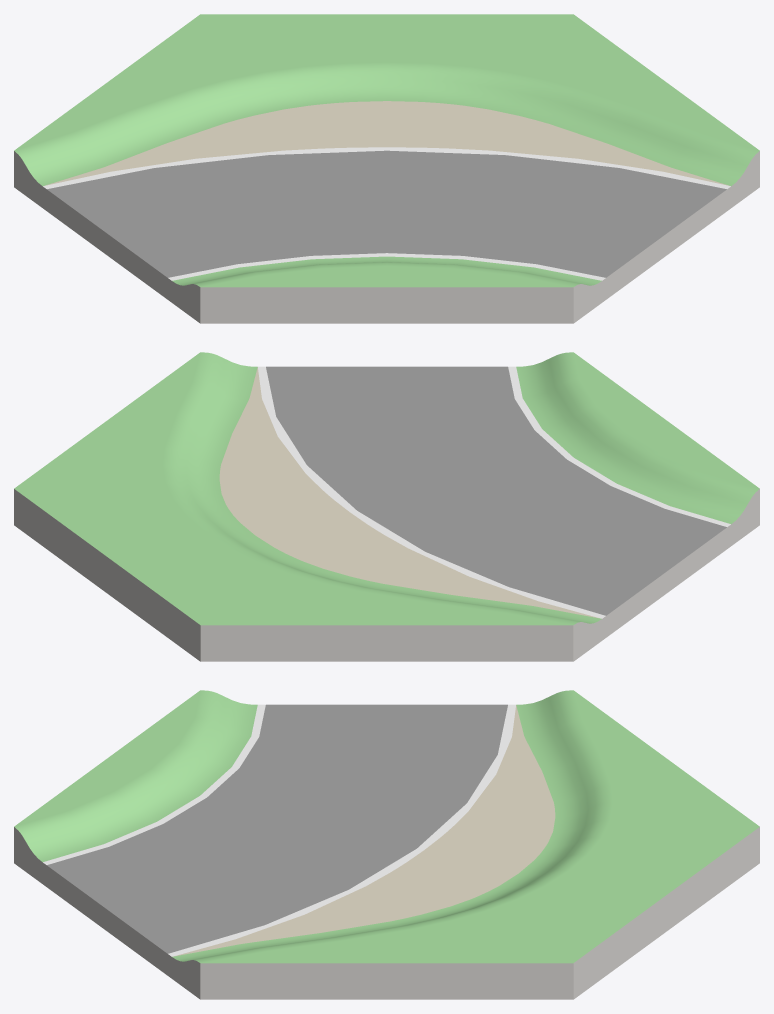
Rendered from Track_Flat_Curve_Gentle_Runoff.glb.
3 renders of one model, top to bottom at view 1: azimuth 30°, elevation 25°; view 2: azimuth 150°, elevation 25°; view 3: azimuth 270°, elevation 25°, orthographic.
Visible parts, largest first — view 1: object1; view 2: object1; view 3: object1.
Boxes of the visible parts, x1,y1,x2,y2 form: object1: (14,14,759,323); object1: (14,352,759,661); object1: (14,690,759,999).
Size of the model in its own units: 1 by 0.0625 by 1.15.
